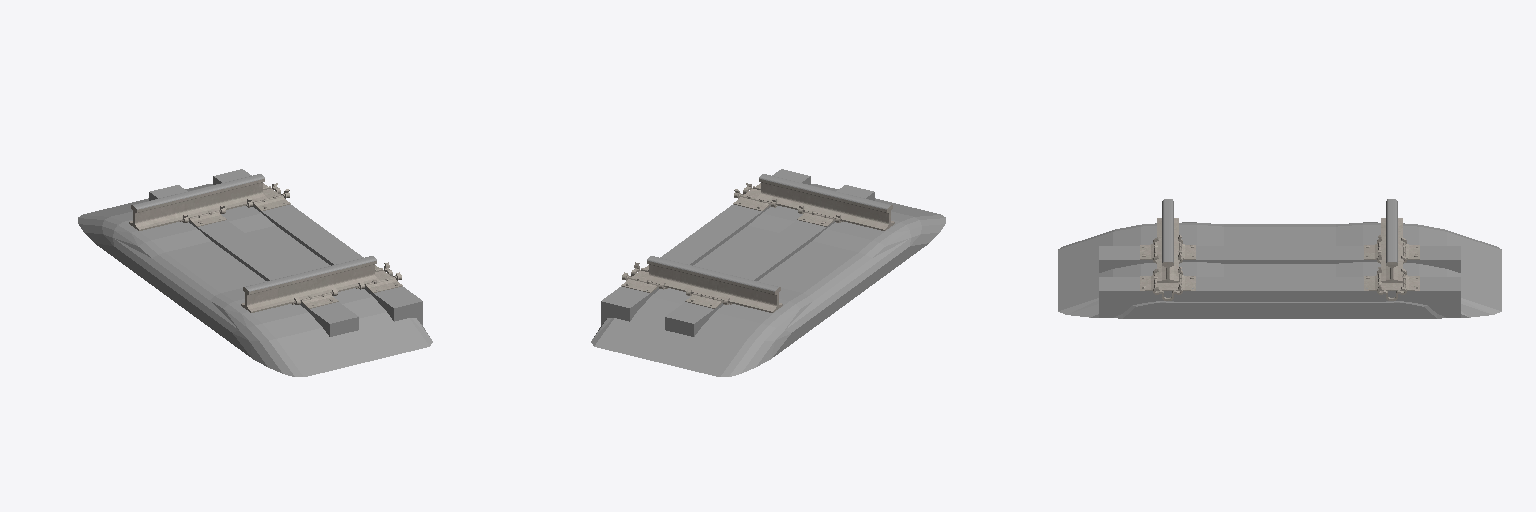
The picture shows the model from 3 angles: view 1: azimuth 30°, elevation 25°; view 2: azimuth 150°, elevation 25°; view 3: azimuth 270°, elevation 25°; orthographic projection.
Parts seen in each view (by area): view 1: RAIL_BASE.001_Plane.001, RAIL_BASE_Plane, RAIL_LEFT_Cube.002, RAIL_RIGHT_Cube.010; view 2: RAIL_BASE.001_Plane.001, RAIL_BASE_Plane, RAIL_RIGHT_Cube.010, RAIL_LEFT_Cube.002; view 3: RAIL_BASE.001_Plane.001, RAIL_BASE_Plane, RAIL_LEFT_Cube.002, RAIL_RIGHT_Cube.010.
Part boxes in pixels (x1,y1,x2,y2): RAIL_BASE.001_Plane.001: (78, 184, 432, 376); RAIL_BASE_Plane: (149, 169, 422, 336); RAIL_LEFT_Cube.002: (241, 256, 379, 312); RAIL_RIGHT_Cube.010: (129, 174, 267, 230); RAIL_BASE.001_Plane.001: (591, 184, 945, 376); RAIL_BASE_Plane: (601, 169, 874, 336); RAIL_RIGHT_Cube.010: (644, 256, 782, 312); RAIL_LEFT_Cube.002: (756, 174, 894, 230); RAIL_BASE.001_Plane.001: (1058, 222, 1501, 318); RAIL_BASE_Plane: (1099, 235, 1460, 317); RAIL_LEFT_Cube.002: (1157, 199, 1178, 282); RAIL_RIGHT_Cube.010: (1381, 199, 1402, 282).
Bounding box in the file's own units: 1.29 × 0.3683 × 3.
5 materials, 1 textured.